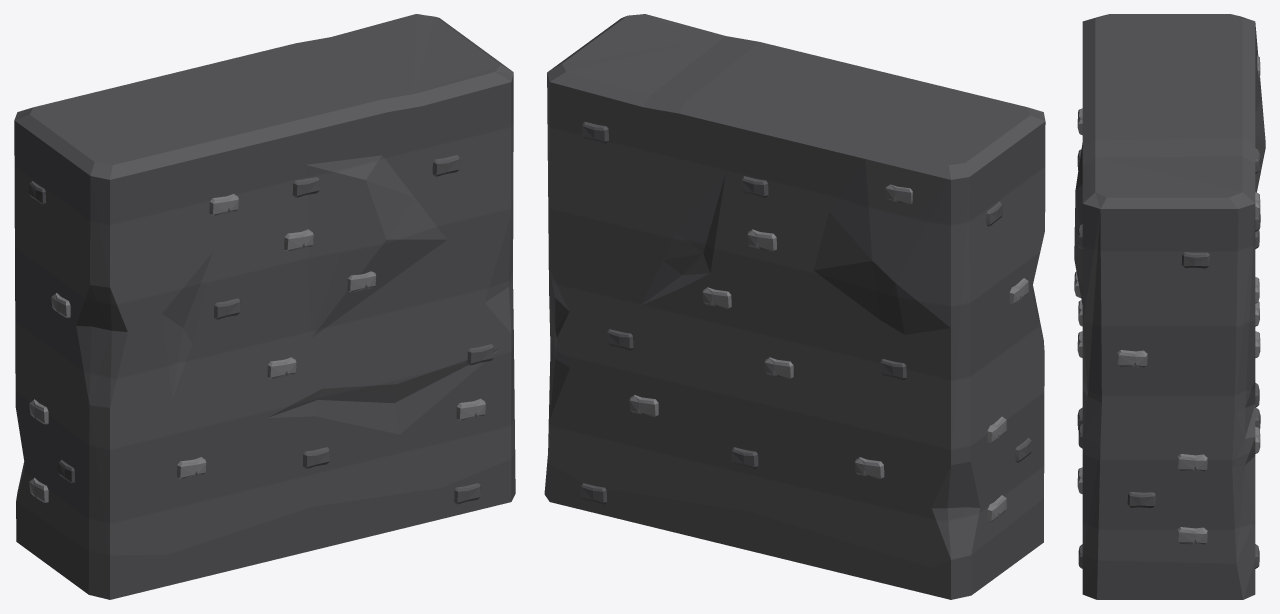
File: SM_Bld_Castle_Wall_01.gltf
3 views of the same model, side by side, from view 1: azimuth 30°, elevation 25°; view 2: azimuth 150°, elevation 25°; view 3: azimuth 270°, elevation 25° (orthographic). The views are drawn at different scales.
Parts seen in each view (by area): view 1: SM_Bld_Castle_Wall_01; view 2: SM_Bld_Castle_Wall_01; view 3: SM_Bld_Castle_Wall_01.
Part boxes in pixels (x1,y1,x2,y2): SM_Bld_Castle_Wall_01: (14, 14, 515, 599); SM_Bld_Castle_Wall_01: (544, 14, 1045, 599); SM_Bld_Castle_Wall_01: (1074, 14, 1265, 599).
Bounding box in the file's own units: 5.4 × 5.09 × 2.22.
Materials: 1 (1 with a texture image).
